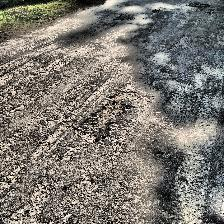pothole: (71, 90, 141, 142)
